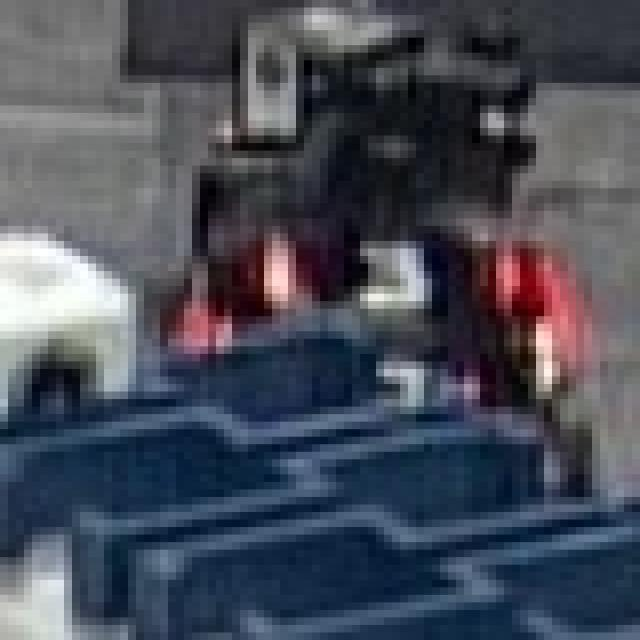R3: (248, 211, 536, 316)
